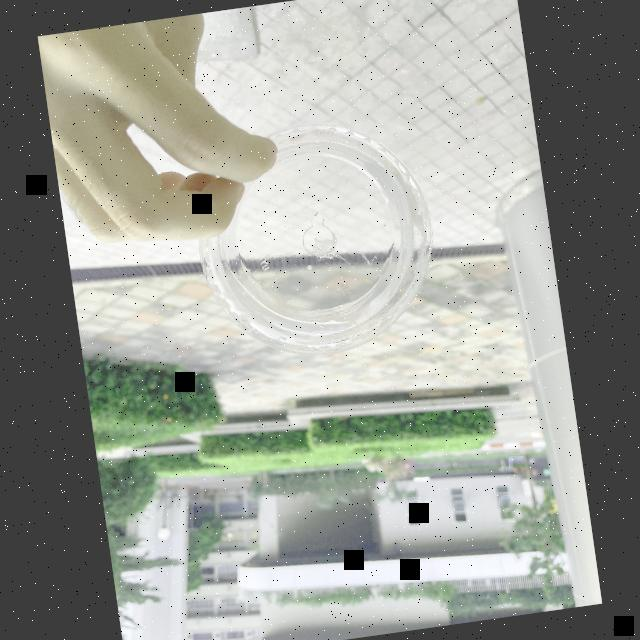plastic_cup_lid: (182, 98, 461, 376)
